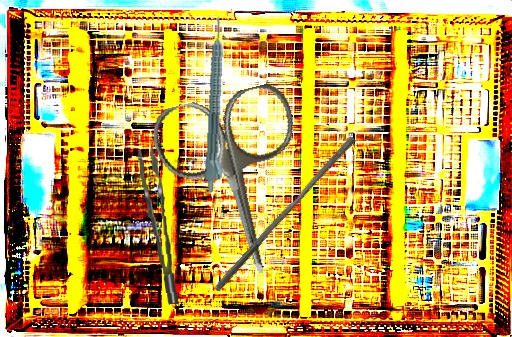Handpiece: (203, 16, 233, 194)
Iris Scissors: (146, 79, 329, 291)
Pusher: (213, 130, 357, 298)
Tissue Forceps: (137, 146, 179, 306)
